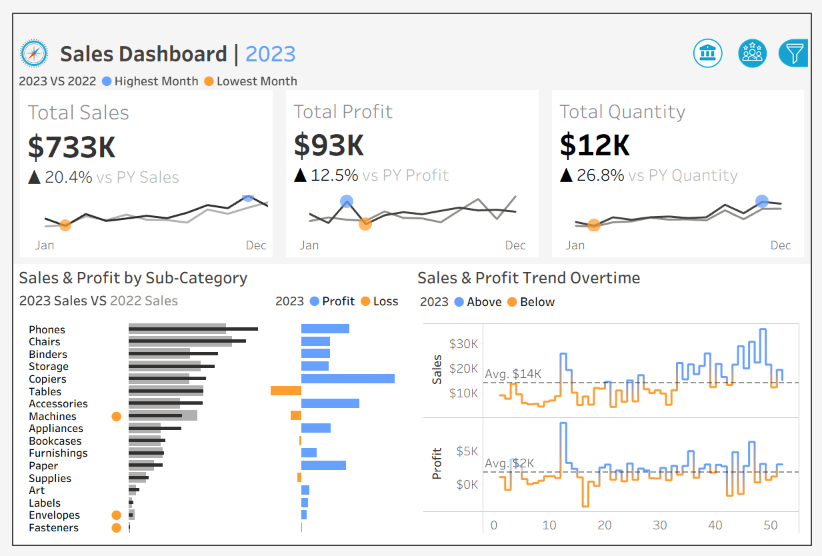

What the dashboard file says about the page in this screenshot:
{"tool":"tableau","page":{"name":"Sales Dashboard","canvas":[1200,800],"ordinal":1},"visuals":[{"type":"blank","box":[2,2,1196,32]},{"type":"image","param":"Image/Icon - Logo.png","box":[2,34,62,53]},{"type":"text","box":[64,34,946,53]},{"type":"dashboard-object","box":[1010,34,67,53]},{"type":"dashboard-object","box":[1077,34,67,53]},{"type":"dashboard-object","box":[1144,34,54,53]},{"type":"worksheet","title":"Legends KPI","mark":"Automatic","box":[2,87,1196,29]},{"type":"text","box":[1015,105,173,42]},{"type":"worksheet","title":"KPI Sales","mark":"Automatic","rows":["Calculation_0809851676311570"],"cols":["Order Date"],"box":[2,116,399,261]},{"type":"worksheet","title":"KPI Profit","mark":"Automatic","rows":["Calculation_0809852322938926"],"cols":["Order Date"],"box":[401,116,399,261]},{"type":"worksheet","title":"KPI Quantity","mark":"Automatic","rows":["Calculation_0809852323635247"],"cols":["Order Date"],"box":[800,116,398,261]},{"type":"parameter","param":"[Parameters].[Parameter 0809851671003150]","box":[1015,147,173,76]},{"type":"blank","box":[1015,223,173,33]},{"type":"text","box":[1015,256,173,49]},{"type":"filter","title":"KPI Sales","param":"[federated.1uo8g6a04o2a0o13bzhg10rgxeyp].[none:Region:nk]","box":[1015,305,173,72]},{"type":"text","box":[2,377,598,39]},{"type":"text","box":[600,377,598,38.7]},{"type":"filter","title":"KPI Sales","param":"[federated.1uo8g6a04o2a0o13bzhg10rgxeyp].[none:State:nk]","box":[1015,377,173,74]},{"type":"text","box":[600,415.7,598,33]},{"type":"worksheet","title":"Legends Sub-Category","mark":"Automatic","box":[2,416,385,32]},{"type":"text","box":[387,416,213,32]},{"type":"worksheet","title":"Sub-Category Comparison","mark":"Bar","rows":["Sub-Category","Calculation_0809852394135601"],"cols":["Current Year Sales (copy)_0809851670319115","Calculation_0809851669983242","Calculation_0809851692998679"],"box":[2,448,598,349.9]},{"type":"worksheet","title":"Weekly Trends","mark":"Automatic","rows":["Calculation_0809851669983242","Calculation_0809851692998679"],"cols":["Order Date"],"box":[600,448.7,598,349.3]},{"type":"filter","title":"KPI Sales","param":"[federated.1uo8g6a04o2a0o13bzhg10rgxeyp].[none:City:nk]","box":[1015,451,173,94]},{"type":"blank","box":[1015,545,173,32]},{"type":"text","box":[1015,577,173,49]},{"type":"filter","title":"KPI Sales","param":"[federated.1uo8g6a04o2a0o13bzhg10rgxeyp].[none:Category:nk]","box":[1015,626,173,76]},{"type":"filter","title":"KPI Sales","param":"[federated.1uo8g6a04o2a0o13bzhg10rgxeyp].[none:Sub-Category:nk]","box":[1015,702,173,85]}]}

Visuals, with their boxes in screenshot pixels (x1, y1, x2, y2), scaled from the page's 1200x800 canvas onto the 822x556 screenshot:
blank: detection(1, 1, 821, 24)
image: detection(1, 24, 44, 60)
text: detection(44, 24, 692, 60)
dashboard-object: detection(692, 24, 738, 60)
dashboard-object: detection(738, 24, 784, 60)
dashboard-object: detection(784, 24, 821, 60)
"Legends KPI" worksheet: detection(1, 60, 821, 81)
text: detection(695, 73, 814, 102)
"KPI Sales" worksheet: detection(1, 81, 275, 262)
"KPI Profit" worksheet: detection(275, 81, 548, 262)
"KPI Quantity" worksheet: detection(548, 81, 821, 262)
parameter: detection(695, 102, 814, 155)
blank: detection(695, 155, 814, 178)
text: detection(695, 178, 814, 212)
"KPI Sales" filter: detection(695, 212, 814, 262)
text: detection(1, 262, 411, 289)
text: detection(411, 262, 821, 289)
"KPI Sales" filter: detection(695, 262, 814, 313)
text: detection(411, 289, 821, 312)
"Legends Sub-Category" worksheet: detection(1, 289, 265, 311)
text: detection(265, 289, 411, 311)
"Sub-Category Comparison" worksheet (Bar marks): detection(1, 311, 411, 555)
"Weekly Trends" worksheet: detection(411, 312, 821, 555)
"KPI Sales" filter: detection(695, 313, 814, 379)
blank: detection(695, 379, 814, 401)
text: detection(695, 401, 814, 435)
"KPI Sales" filter: detection(695, 435, 814, 488)
"KPI Sales" filter: detection(695, 488, 814, 547)
